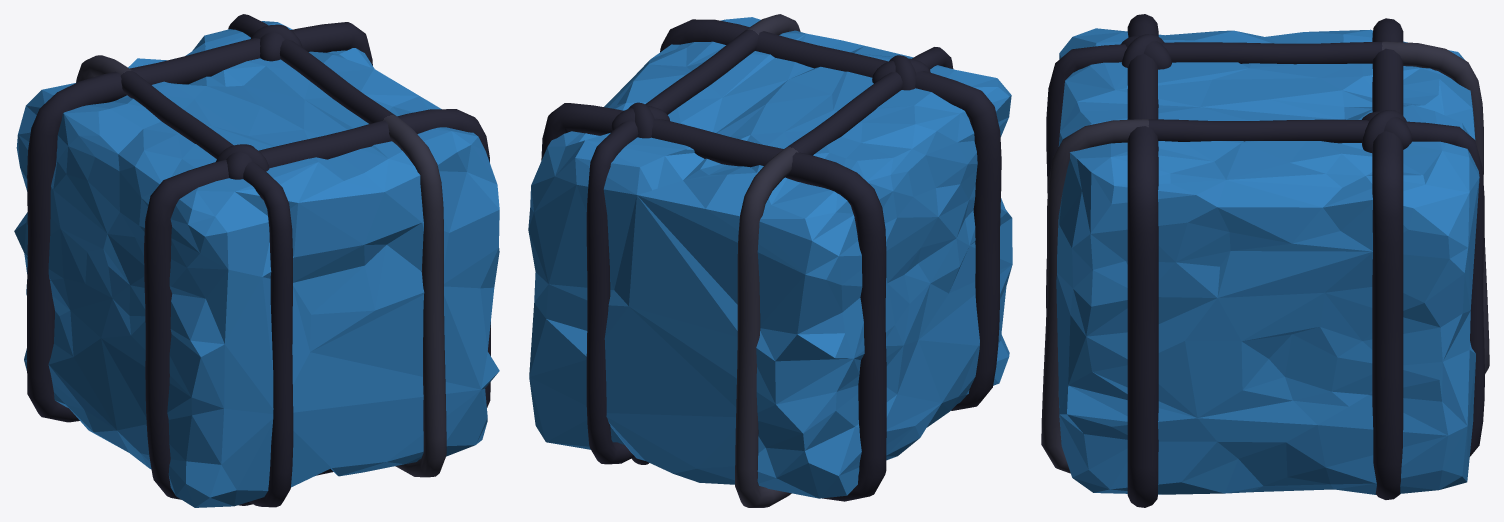
File: fardo_Az.fbx
The picture shows the model from 3 angles, left to right: view 1: azimuth 30°, elevation 25°; view 2: azimuth 150°, elevation 25°; view 3: azimuth 270°, elevation 25°; orthographic projection. The views are drawn at different scales.
Parts seen in each view (by area): view 1: fardo_Az; view 2: fardo_Az; view 3: fardo_Az.
Boxes of the visible parts, box(x1,y1,x2,y2) form: fardo_Az: box(14, 14, 499, 507); fardo_Az: box(528, 14, 1012, 507); fardo_Az: box(1041, 14, 1489, 507).
Size of the model in its own units: 189 by 189 by 203.
